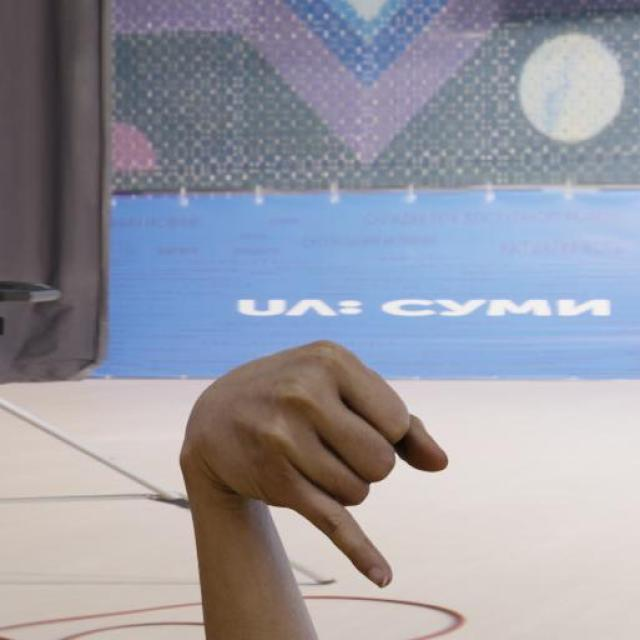J: (150, 306, 473, 614)
